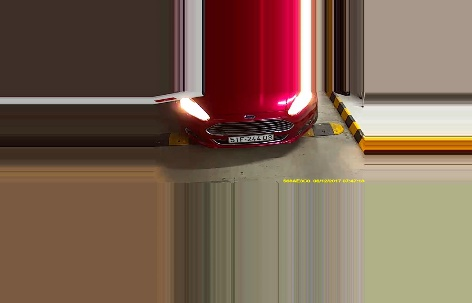plate: (225, 134, 274, 143)
